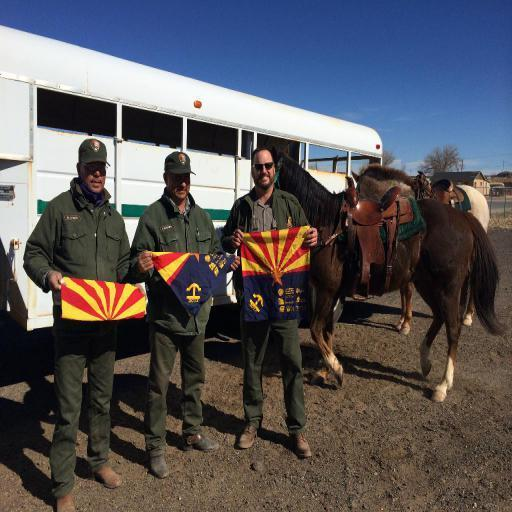horse: (273, 141, 509, 405), (350, 164, 490, 336)
